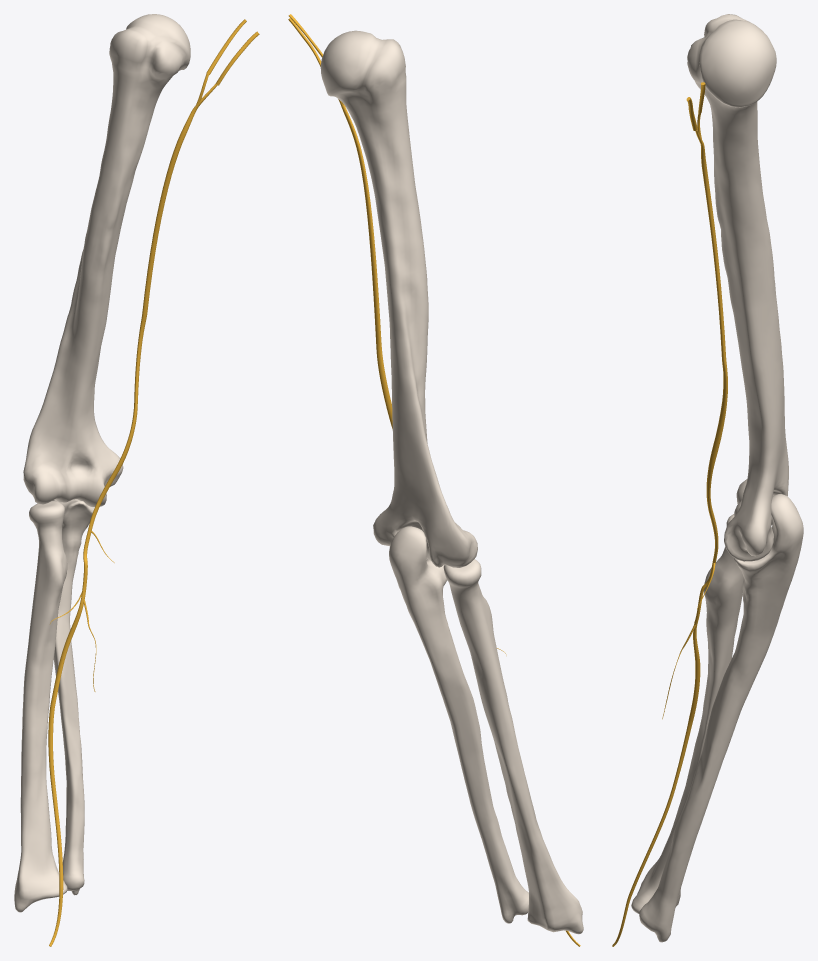
The model's file is median-nerve.glb.
3 views of the same model, side by side, from view 1: azimuth 30°, elevation 25°; view 2: azimuth 150°, elevation 25°; view 3: azimuth 270°, elevation 25° (orthographic). The views are drawn at different scales.
Visible parts, largest first — view 1: Humerus.r, Radius.r, Ulna.r, Median nerve.r; view 2: Humerus.r, Ulna.r, Radius.r, Median nerve.r; view 3: Humerus.r, Ulna.r, Radius.r, Median nerve.r.
Part boxes in pixels (x1,y1,x2,y2): Humerus.r: (23,14,190,507); Radius.r: (14,501,67,912); Ulna.r: (52,499,93,895); Median nerve.r: (48,106,197,946); Humerus.r: (320,30,477,567); Ulna.r: (389,526,528,923); Radius.r: (443,559,583,934); Median nerve.r: (342,106,580,946); Humerus.r: (687,14,788,561); Ulna.r: (639,494,803,942); Radius.r: (631,514,743,913); Median nerve.r: (612,142,727,946).
Bounding box in the file's own units: 0.1799 × 0.5655 × 0.097.
